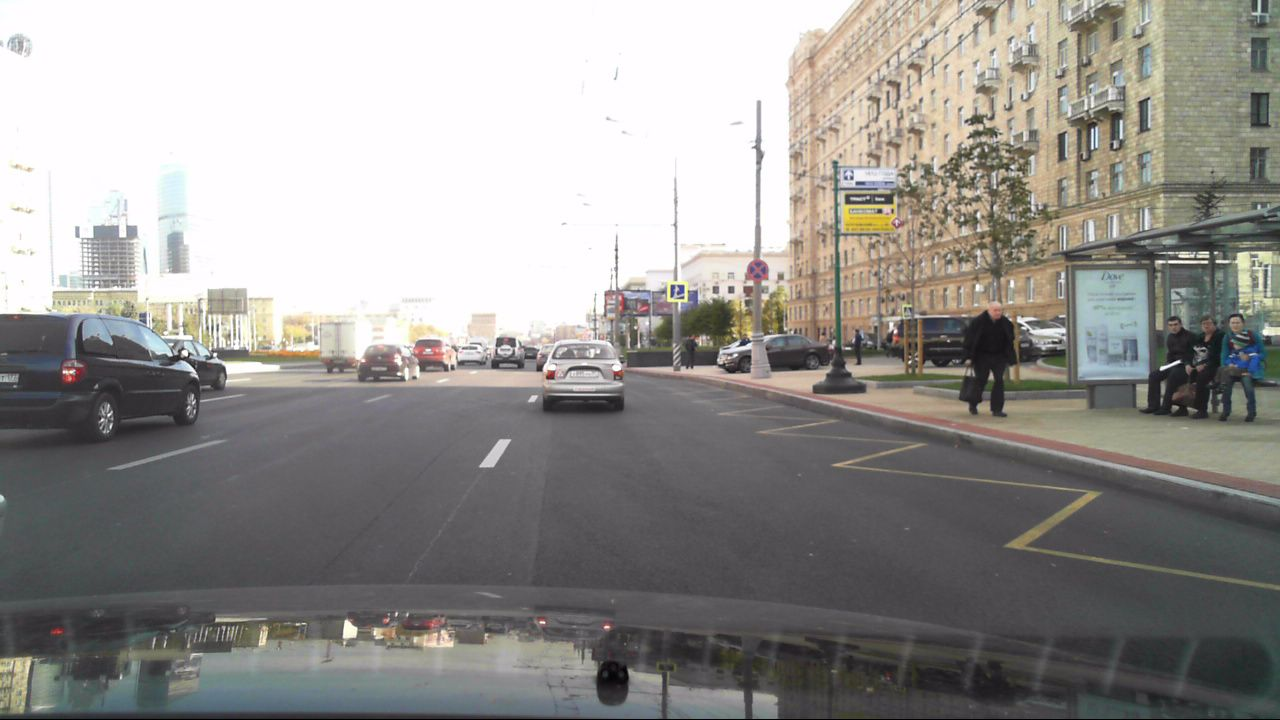No Parking: (748, 258, 767, 279)
